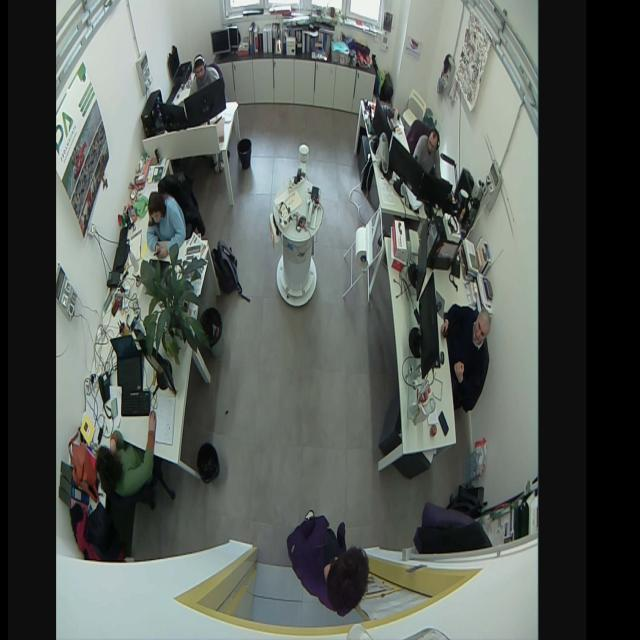Persona: (284, 503, 373, 620), (94, 407, 158, 509), (439, 301, 494, 409), (146, 187, 187, 271), (188, 48, 221, 99), (413, 126, 442, 180)
